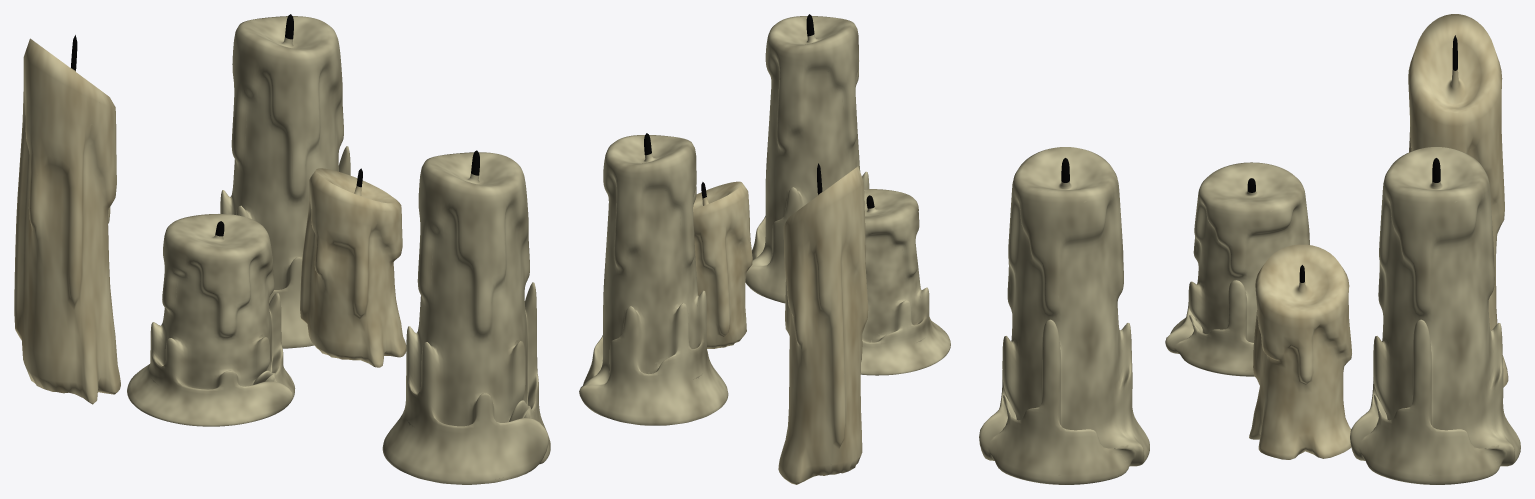
The model's file is candle1.fbx.
The picture shows the model from 3 angles, left to right: view 1: azimuth 30°, elevation 25°; view 2: azimuth 150°, elevation 25°; view 3: azimuth 270°, elevation 25°; orthographic projection. The views are drawn at different scales.
Visible parts, largest first — view 1: Cylinder.002, Cylinder.006, Cylinder.005, Cylinder.004, Cylinder; view 2: Cylinder.004, Cylinder.006, Cylinder.002, Cylinder.005, Cylinder; view 3: Cylinder.002, Cylinder.004, Cylinder, Cylinder.005, Cylinder.006.
Boxes of the visible parts, <box> form: Cylinder.002: <box>382,150,550,484</box>; Cylinder.006: <box>14,35,120,404</box>; Cylinder.005: <box>127,214,295,426</box>; Cylinder.004: <box>220,14,350,348</box>; Cylinder: <box>300,168,406,367</box>; Cylinder.004: <box>579,133,728,425</box>; Cylinder.006: <box>778,163,868,484</box>; Cylinder.002: <box>745,14,869,303</box>; Cylinder.005: <box>860,189,950,375</box>; Cylinder: <box>693,181,752,348</box>; Cylinder.002: <box>979,147,1149,484</box>; Cylinder.004: <box>1350,147,1520,484</box>; Cylinder: <box>1249,244,1351,459</box>; Cylinder.005: <box>1165,162,1309,376</box>; Cylinder.006: <box>1408,14,1508,387</box>.
Size of the model in its own units: 1062 by 1120 by 1563.
